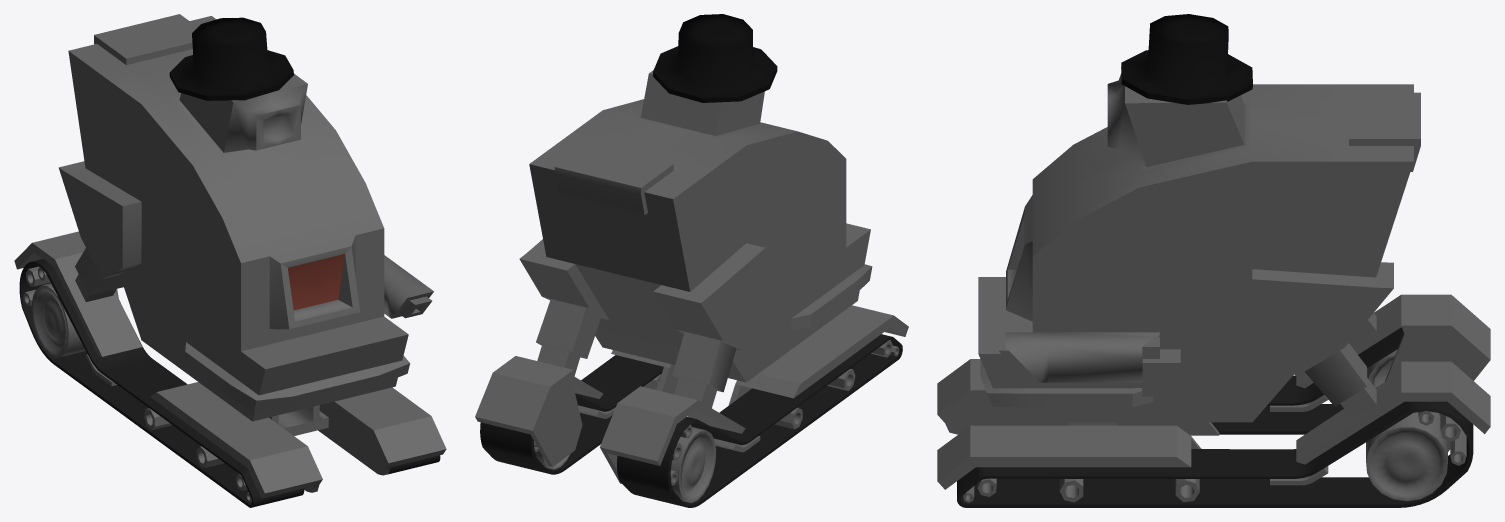
Rendered from Companion.dae.
3 renders of one model, left to right at view 1: azimuth 30°, elevation 25°; view 2: azimuth 150°, elevation 25°; view 3: azimuth 270°, elevation 25°, orthographic. The views are drawn at different scales.
Parts seen in each view (by area): view 1: body, track_ncl1_1, hat, largewheel_ncl1_1; view 2: body, track_ncl1_1, hat, track, largewheel_ncl1_1; view 3: body, track, hat, largewheel, track_ncl1_1.
Part boxes in pixels (x1,y1,x2,y2): body: (14,14,446,498); track_ncl1_1: (19,259,304,507); hat: (169,17,293,100); largewheel_ncl1_1: (31,283,85,357); body: (475,70,908,483); track_ncl1_1: (617,334,902,507); hat: (653,14,777,102); track: (480,355,663,474); largewheel_ncl1_1: (671,427,716,503); body: (937,73,1490,489); track: (957,401,1473,507); hat: (1121,14,1252,104); largewheel: (1366,412,1447,501); track_ncl1_1: (1211,327,1403,434).
Size of the model in its own units: 1.47 by 2.56 by 3.03.
